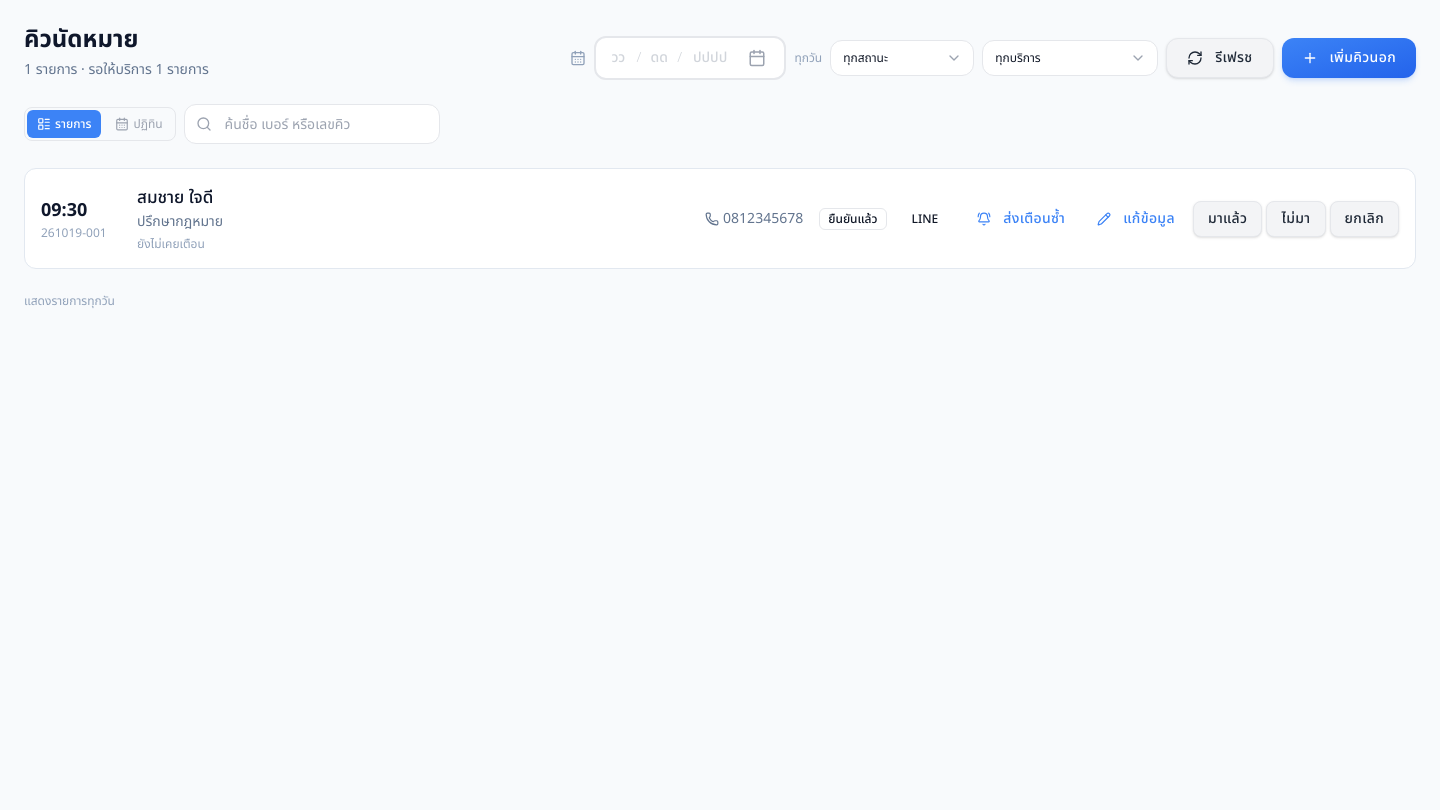
Test: calendar view › opens the month grid with fullness and fetches the visible month
expect the list is shown: met, box [24,168,1416,269]
Click the tab "ปฏิทิน" at (139, 124), box [105,110,173,138]
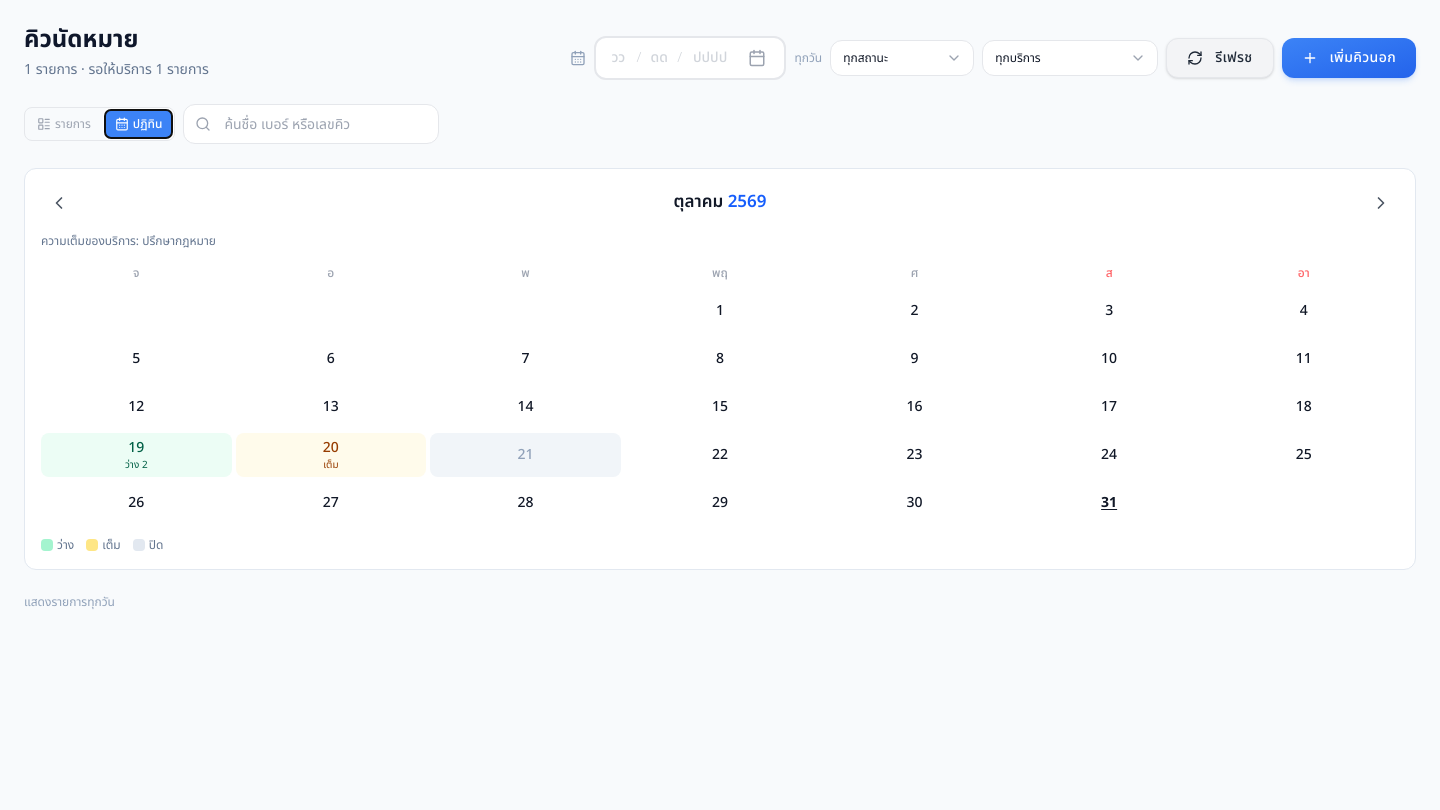
expect the element named "วันในเดือน" is shown: met, box [41,261,1399,525]
expect the text "ความเต็มของบริการ: ปรึกษากฎหมาย" is shown: met, box [41,232,216,250]
